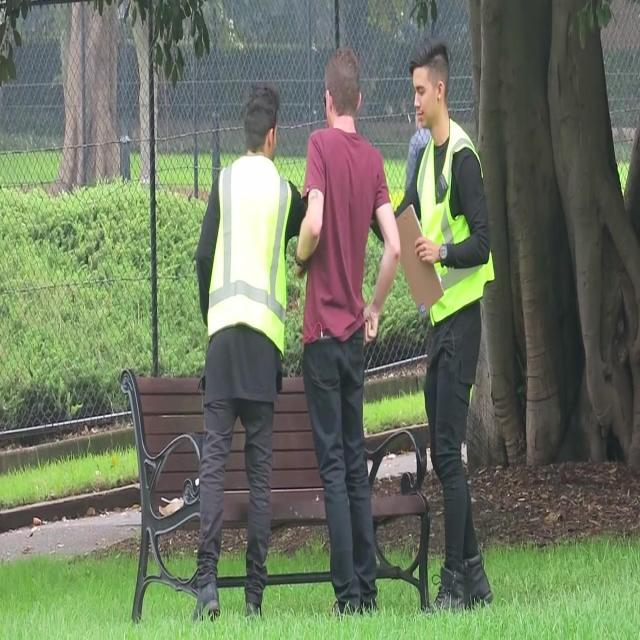Vest: (208, 153, 292, 360), (417, 113, 496, 327)
